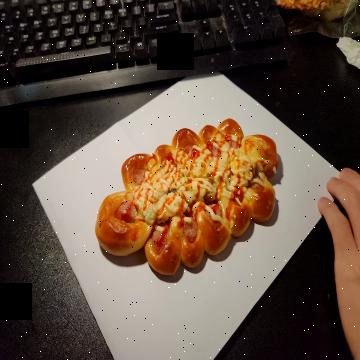pizza_bread: (97, 119, 280, 275)
